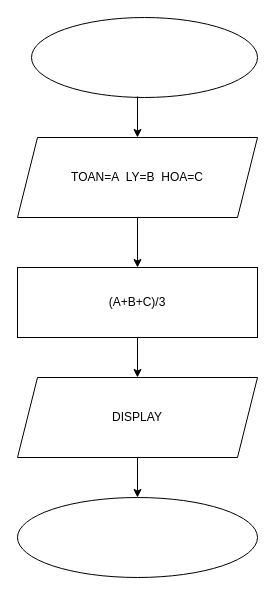
This 275x595 diagram has some shape labels left out. The centre of each missing label's shape, as x and y in pixels:
"BEGIN" belongs at point 144,57.
"STOP" belongs at point 137,537.
